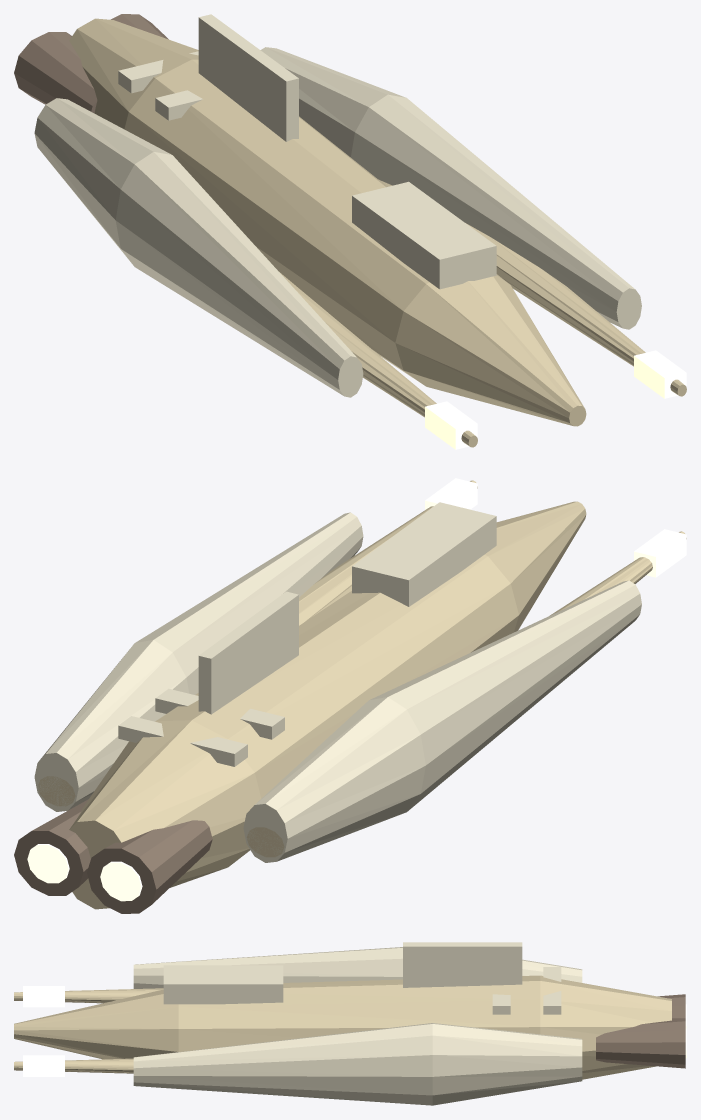
3 views of the same model, one above another, from view 1: azimuth 30°, elevation 25°; view 2: azimuth 150°, elevation 25°; view 3: azimuth 270°, elevation 25° (orthographic). The views are drawn at different scales.
Size of the model in its own units: 1.86 by 1.16 by 5.13.
